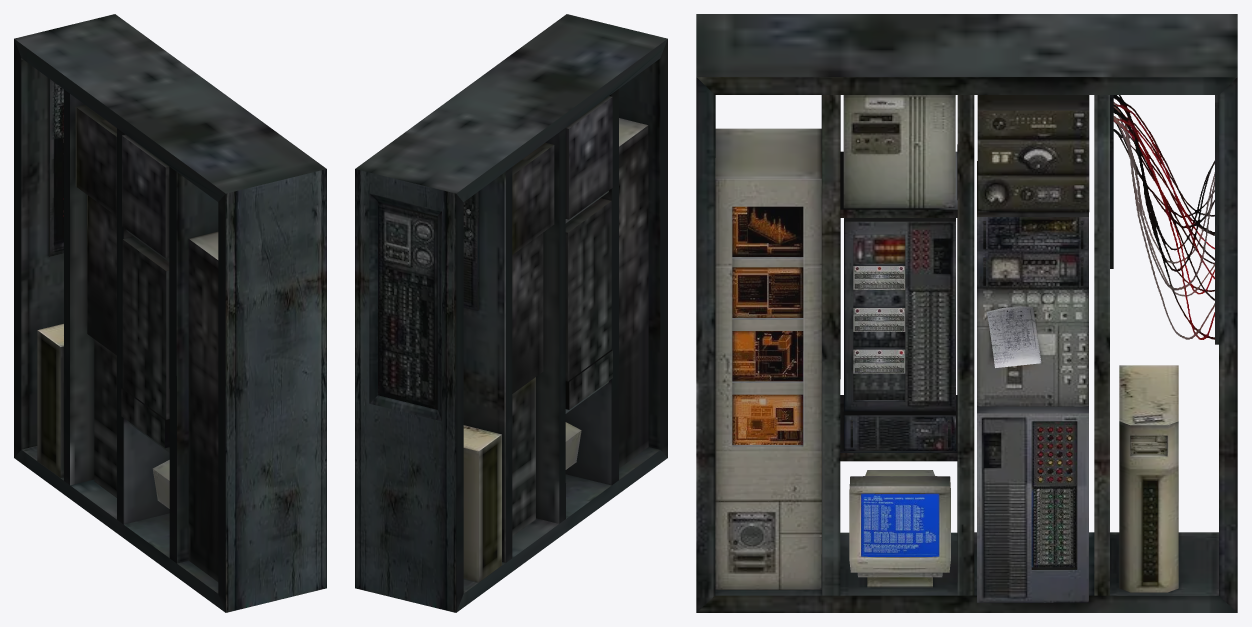
Rendered from servers.glb.
3 views of the same model, side by side, from view 1: azimuth 30°, elevation 25°; view 2: azimuth 150°, elevation 25°; view 3: azimuth 270°, elevation 25° (orthographic). The views are drawn at different scales.
Visible parts, largest first — view 1: 0_servers_sheet; view 2: 0_servers_sheet; view 3: 0_servers_sheet, 1_servers_disp, 2_server_wires.
Part boxes in pixels (x1,y1,x2,y2): 0_servers_sheet: (14,14,326,612); 0_servers_sheet: (355,14,667,612); 0_servers_sheet: (696,14,1237,612); 1_servers_disp: (732,206,1167,567); 2_server_wires: (1113,95,1214,339).
Size of the model in its own units: 0.7349 by 2.57 by 2.35.
3 materials, 3 textured.
